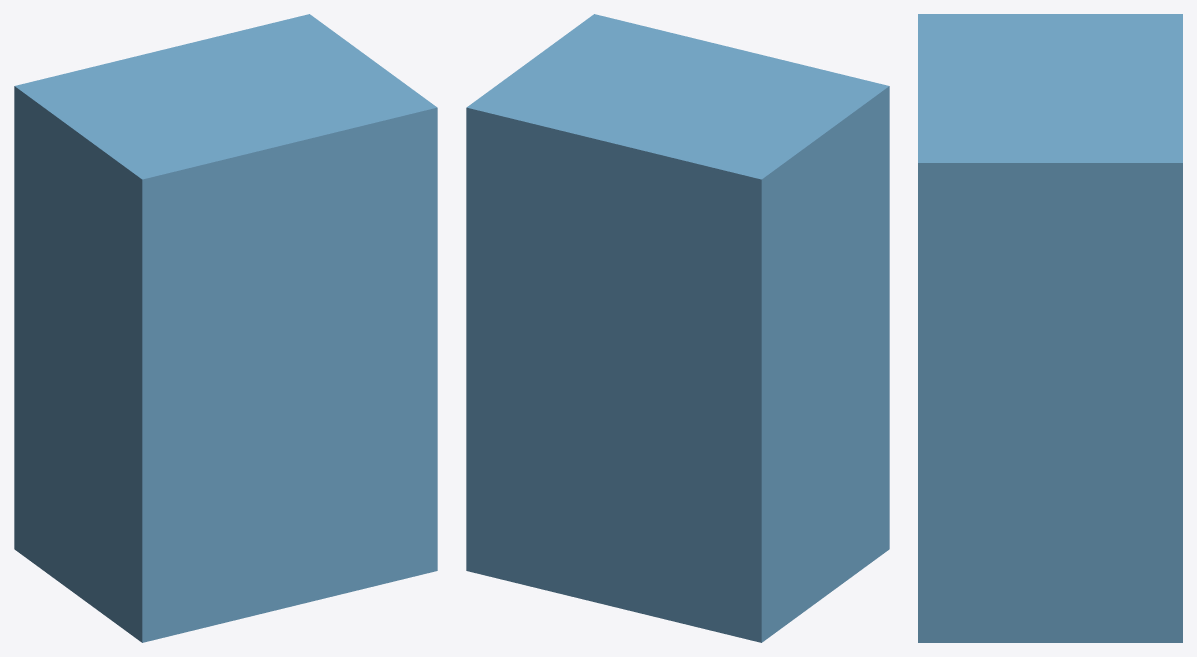
The model's file is units-tall.glb.
3 renders of one model, left to right at view 1: azimuth 30°, elevation 25°; view 2: azimuth 150°, elevation 25°; view 3: azimuth 270°, elevation 25°, orthographic. The views are drawn at different scales.
Size of the model in its own units: 2 by 3 by 1.5.
